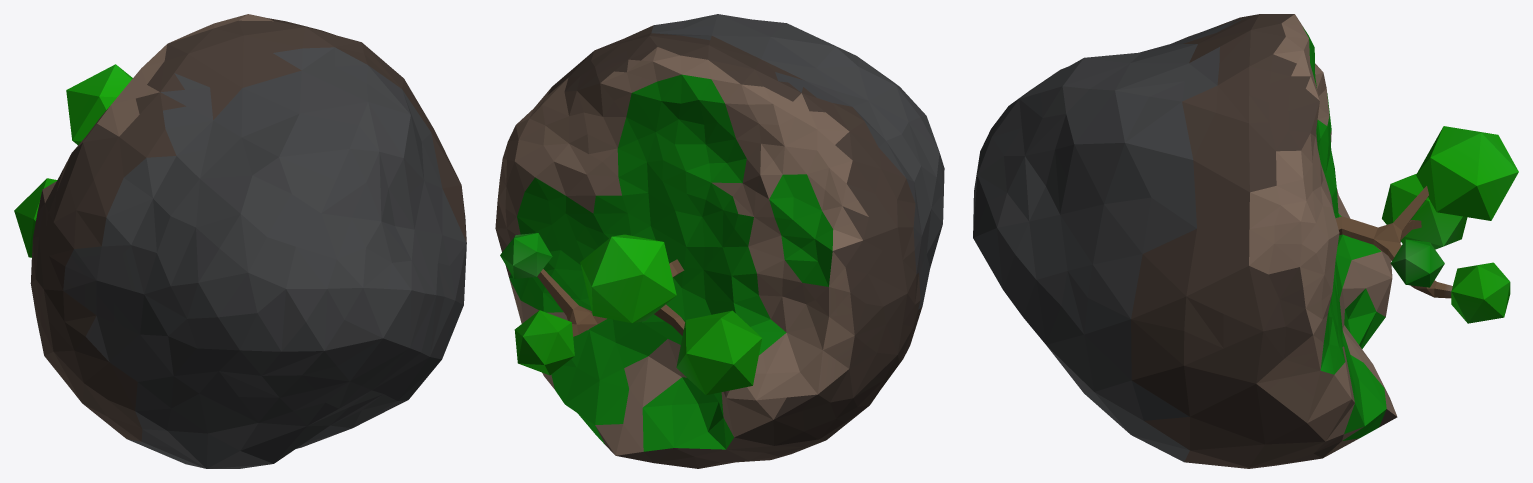
File: Small Floating Island.dae
The picture shows the model from 3 angles, left to right: view 1: azimuth 30°, elevation 25°; view 2: azimuth 150°, elevation 25°; view 3: azimuth 270°, elevation 25°; orthographic projection. The views are drawn at different scales.
Visible parts, largest first — view 1: Icosphere; view 2: Icosphere; view 3: Icosphere.
Boxes of the visible parts, x1,y1,x2,y2 form: Icosphere: (14, 14, 466, 468); Icosphere: (495, 14, 944, 468); Icosphere: (973, 14, 1518, 468).
Size of the model in its own units: 1.99 by 2.32 by 1.97.
